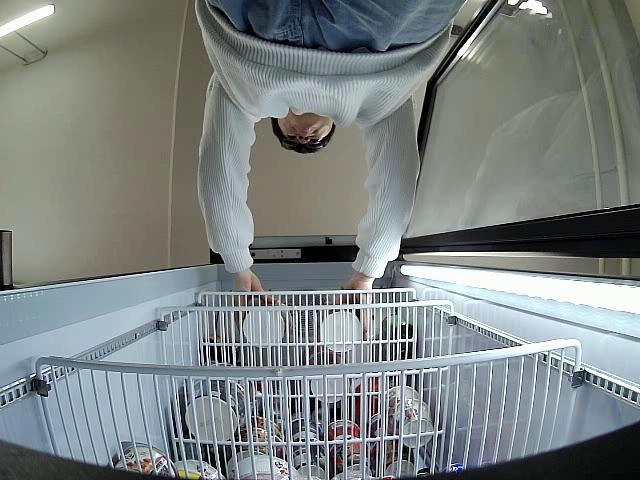00_hand: (328, 277, 371, 341), (233, 274, 277, 333)
03_chapagetti_L: (242, 297, 294, 350), (317, 302, 363, 351)
